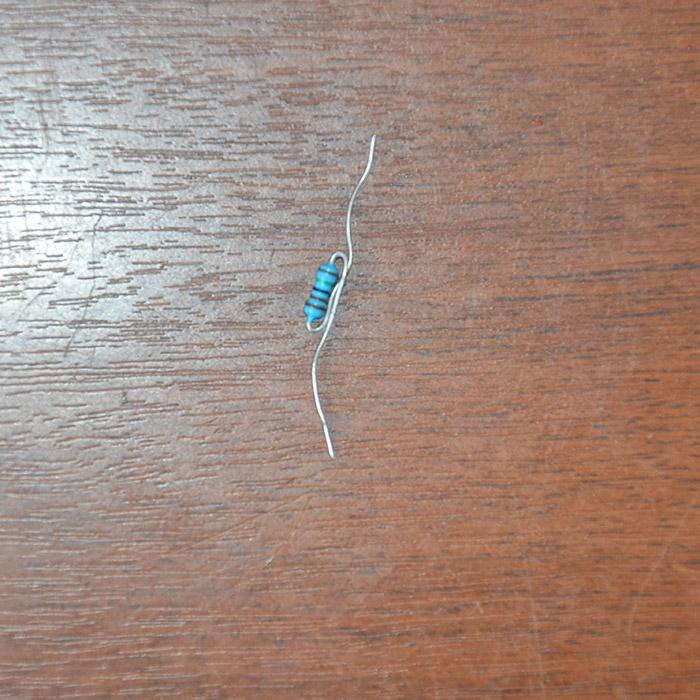resistor: (303, 261, 341, 326)
